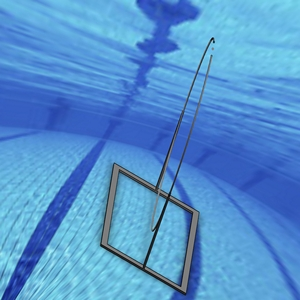circle: (100, 33, 217, 295)
